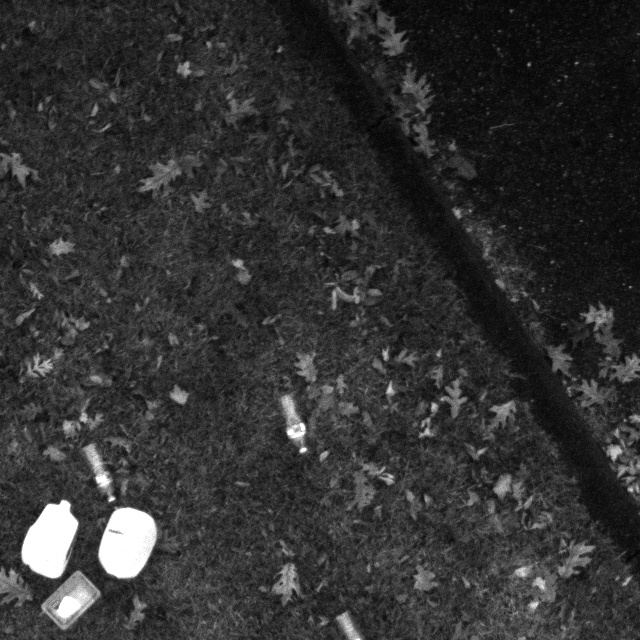bottle: (264, 386, 318, 463), (78, 437, 112, 506)
can: (84, 498, 161, 584), (18, 493, 83, 581)
container: (31, 567, 110, 634)
